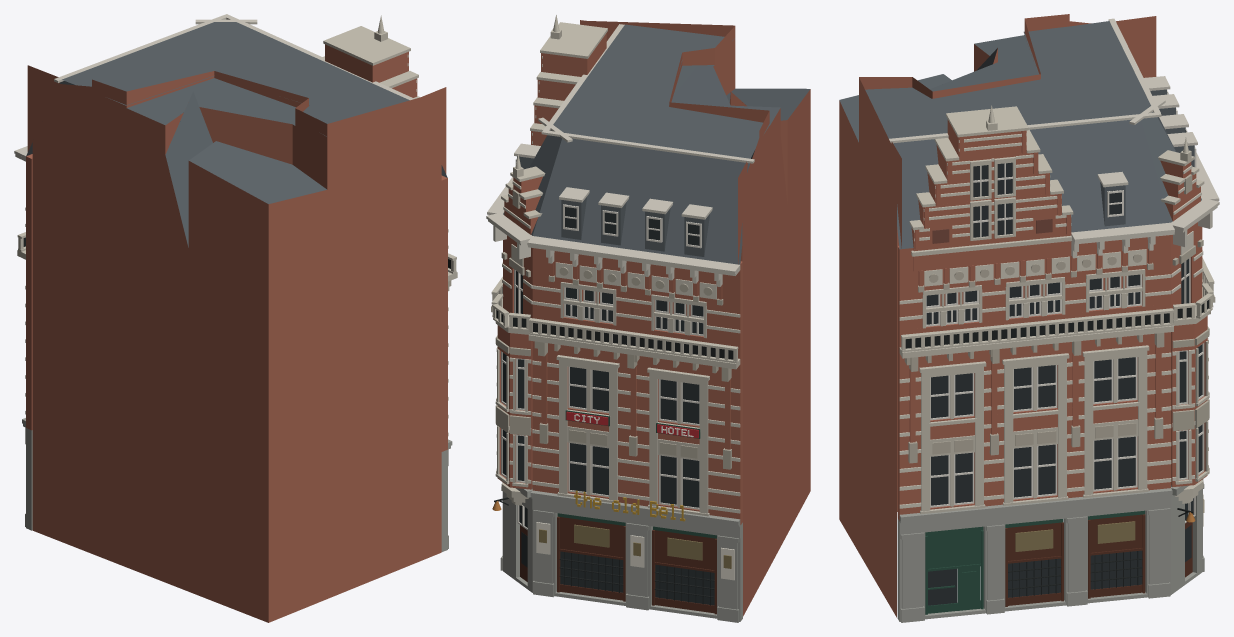
File: old-bell-rembrandtplein.glb
3 views of the same model, side by side, from view 1: azimuth 30°, elevation 25°; view 2: azimuth 150°, elevation 25°; view 3: azimuth 270°, elevation 25° (orthographic). The views are drawn at different scales.
Visible parts, largest first — view 1: old-bell-rembrandtplein; view 2: old-bell-rembrandtplein; view 3: old-bell-rembrandtplein.
Boxes of the visible parts, left/top/right/bottom form: old-bell-rembrandtplein: left=14, top=14, right=457, bottom=622; old-bell-rembrandtplein: left=486, top=15, right=810, bottom=622; old-bell-rembrandtplein: left=839, top=14, right=1219, bottom=622.
Bounding box in the file's own units: 14.79 × 23.22 × 15.78.
